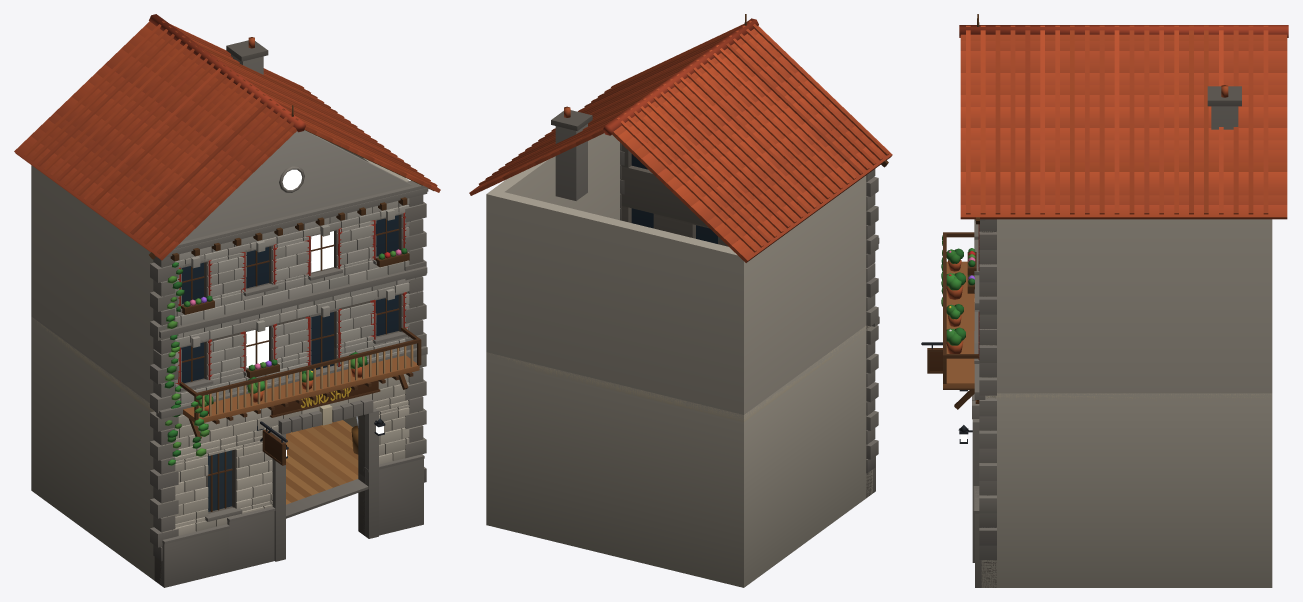
The model's file is hill_sword_shop.glb.
The picture shows the model from 3 angles, left to right: view 1: azimuth 30°, elevation 25°; view 2: azimuth 150°, elevation 25°; view 3: azimuth 270°, elevation 25°; orthographic projection. The views are drawn at different scales.
Parts seen in each view (by area): view 1: hill_L6_LOD0, sign_swords; view 2: hill_L6_LOD0; view 3: hill_L6_LOD0.
Part boxes in pixels (box(x1,y1,x2,y2)): hill_L6_LOD0: box(14, 14, 440, 587); sign_swords: box(262, 429, 285, 465); hill_L6_LOD0: box(469, 14, 892, 587); hill_L6_LOD0: box(921, 14, 1288, 587).
Size of what is drawn, in the model's own units: 12.43 by 18.64 by 12.35.
